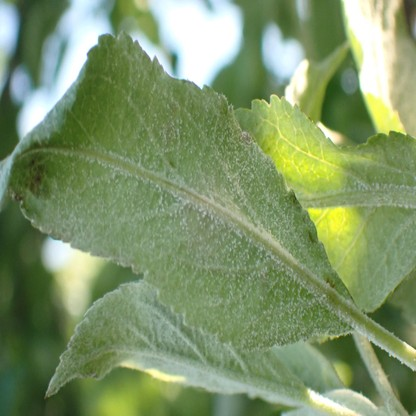powder: (33, 33, 356, 349), (46, 283, 292, 399), (341, 134, 416, 312)
